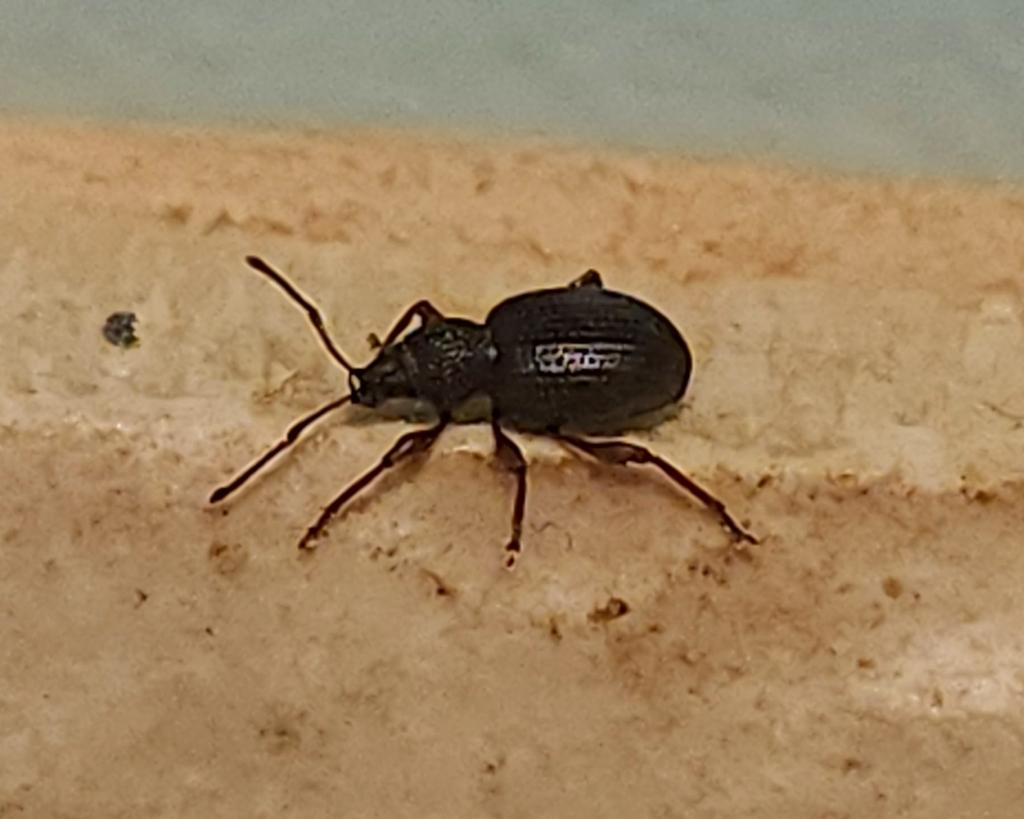weevils: (153, 190, 839, 623)
